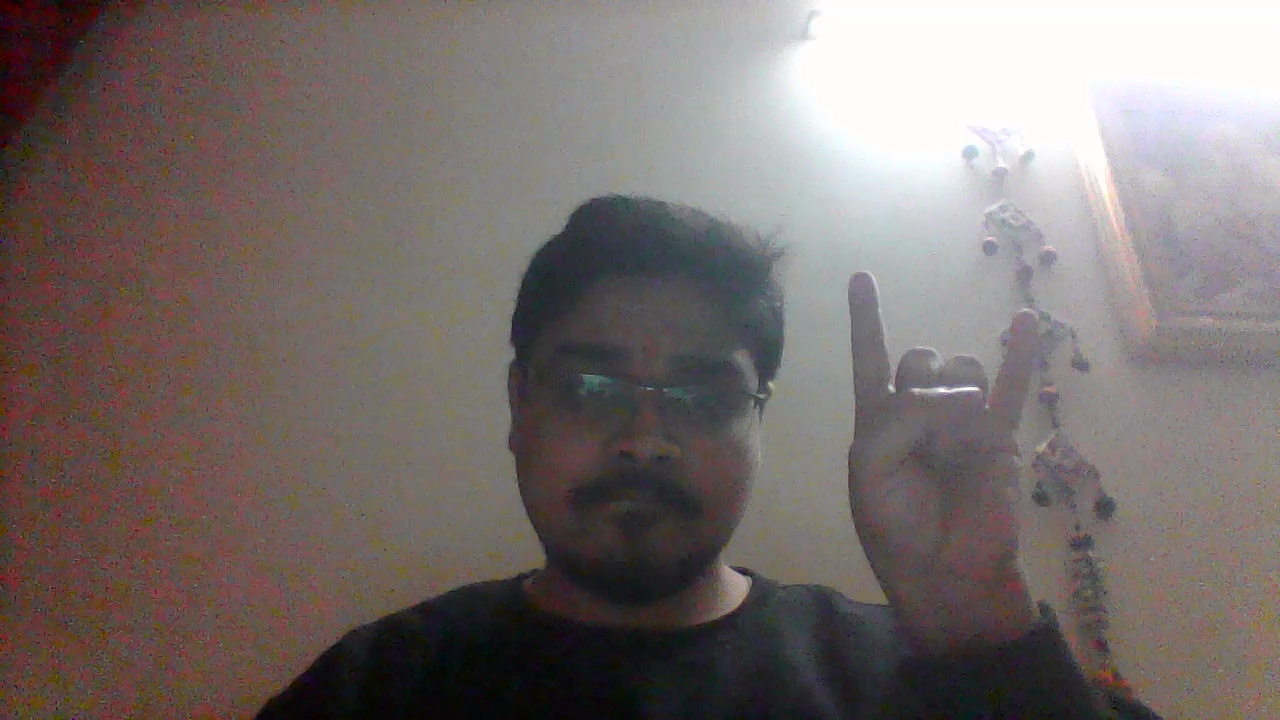ILoveYou: (847, 271, 1038, 608)
